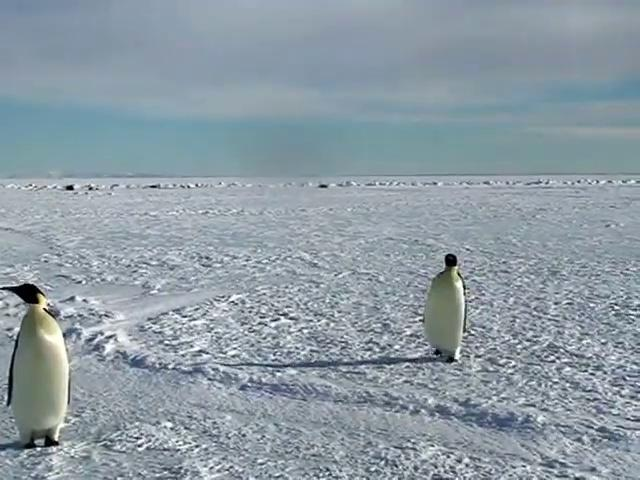animal: (1, 285, 71, 448)
